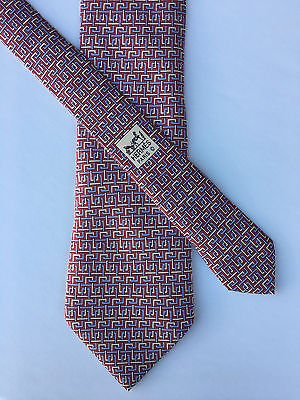HERMES: (112, 120, 164, 172)
